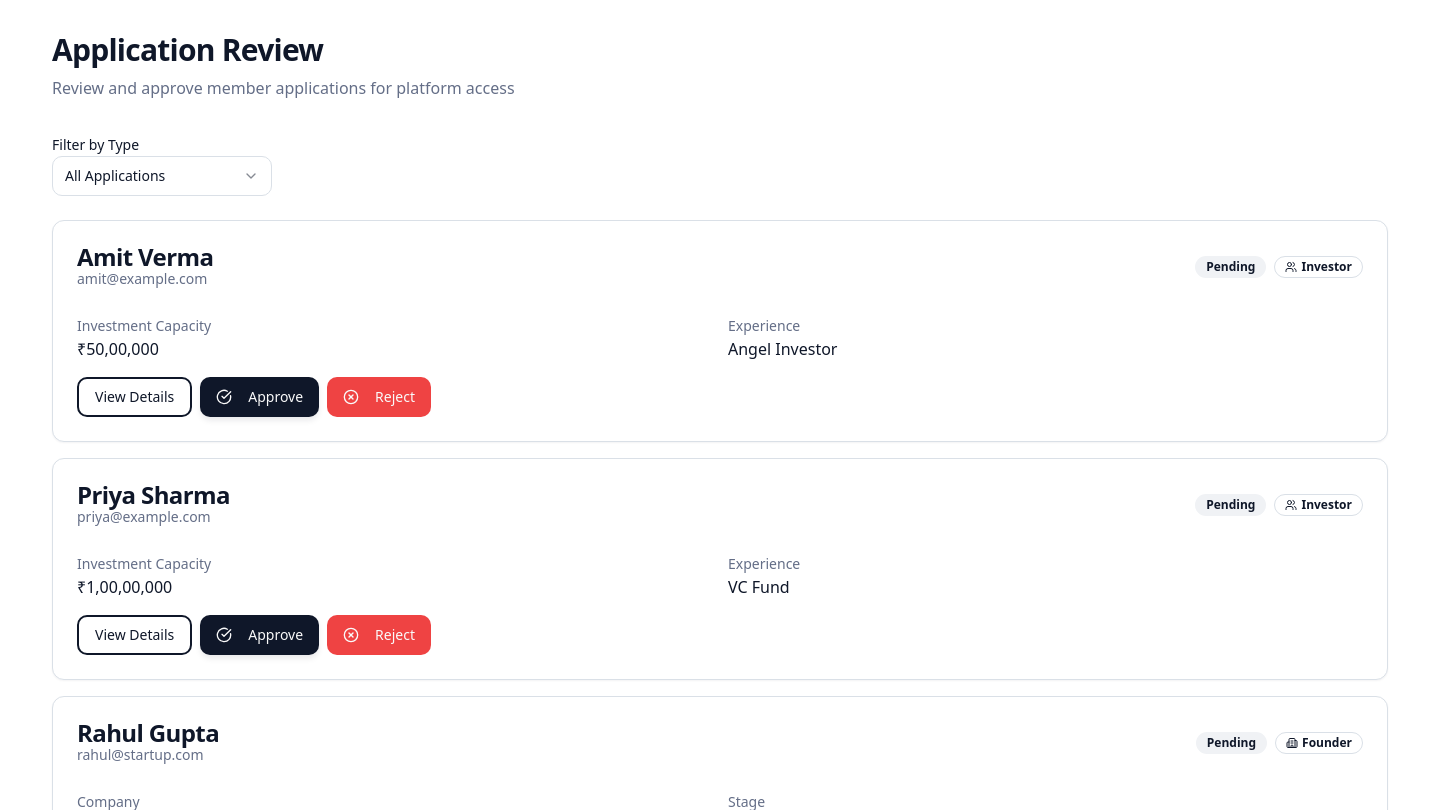
US-ADMIN-004: Application Review › Filter Applications › should filter by investor applications
Expected: the text "Amit Verma" is shown, [77,245,213,269]
Expected: the text "Rahul Gupta" is shown, [77,721,219,745]
Click the dropdown named "Filter by Type" at (162, 176), box [52,156,272,196]
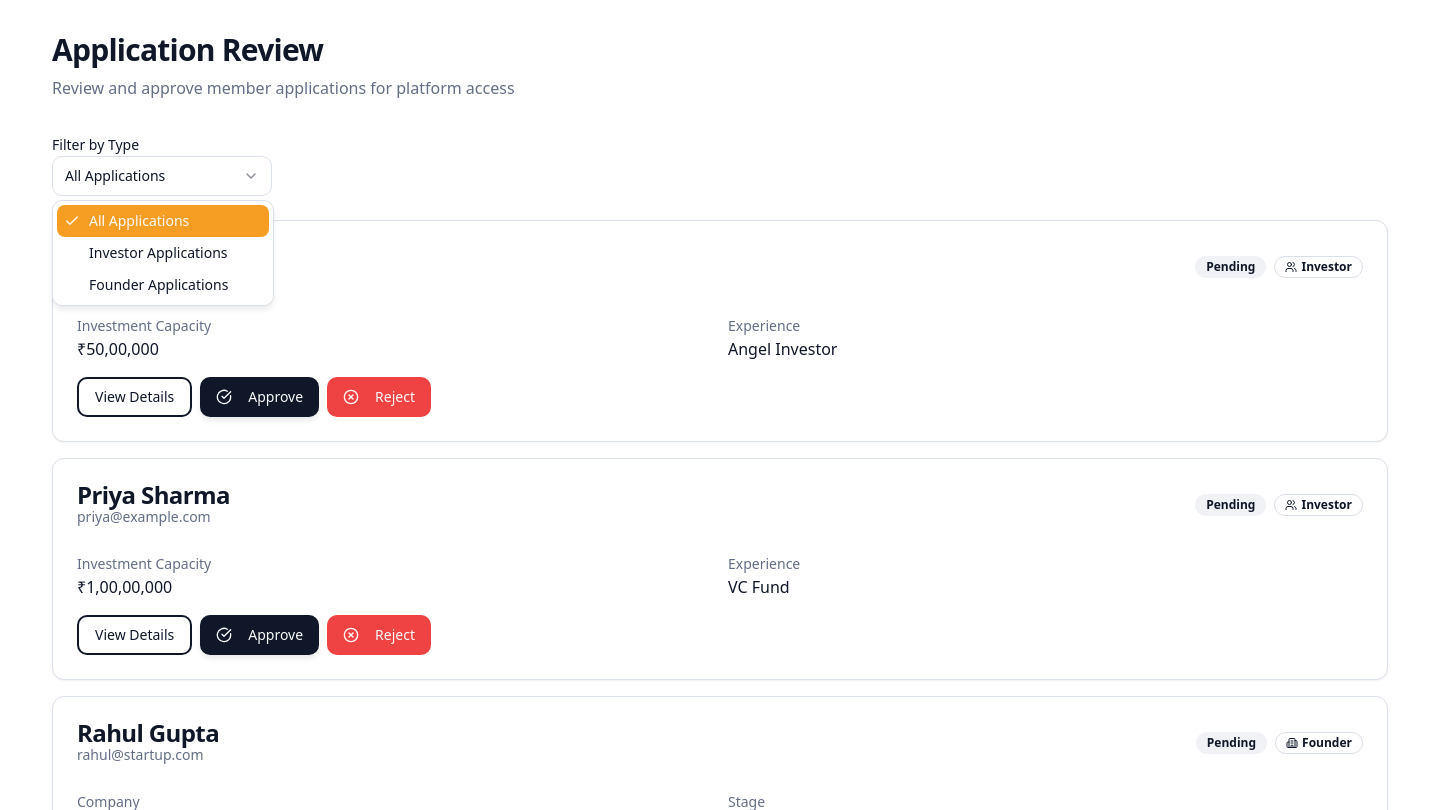
Click the option "Investor Applications" at (158, 252), box [89,243,228,262]
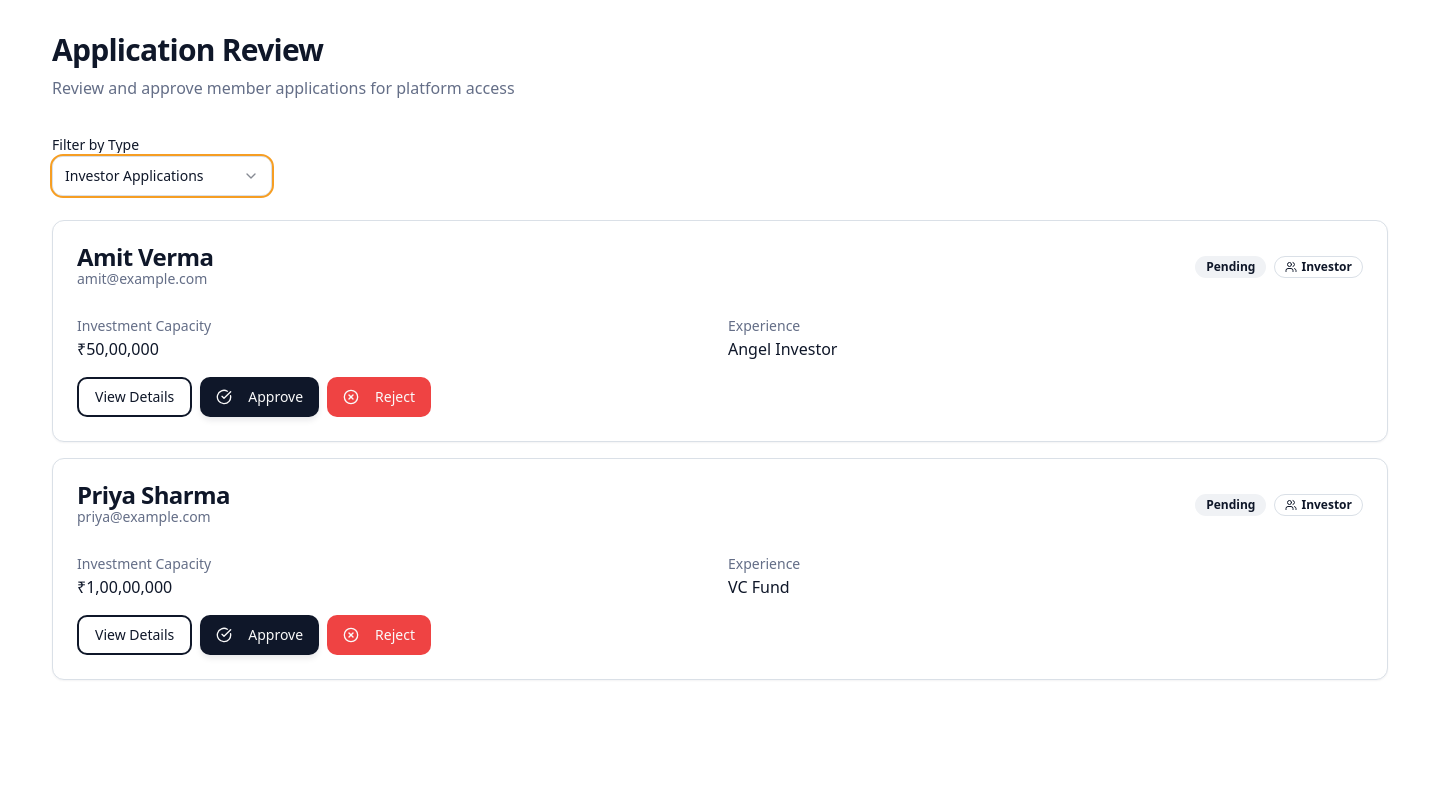
Expected: the text "Amit Verma" is shown, [77,245,213,269]
Result: the text "Rahul Gupta" is gone
